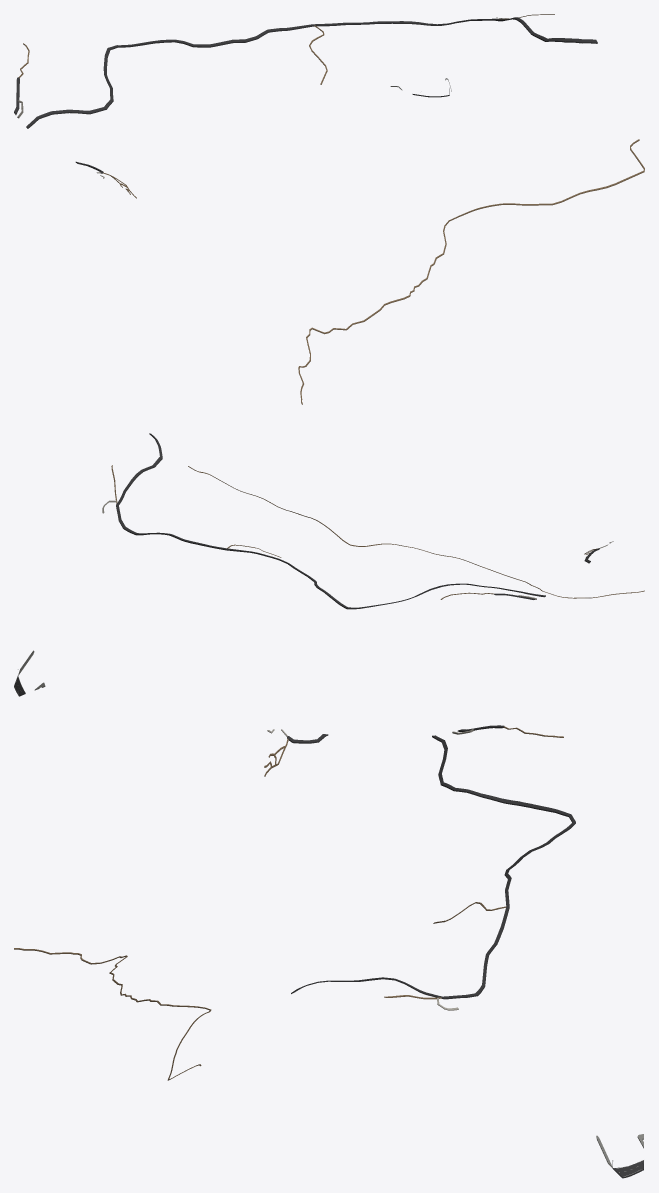
File: 16-54722-29729.c724cceb.glb
3 views of the same model, one above another, from view 1: azimuth 30°, elevation 25°; view 2: azimuth 150°, elevation 25°; view 3: azimuth 270°, elevation 25° (orthographic). The views are drawn at different scales.
Bounding box in the file's own units: 588 × 209 × 584.
